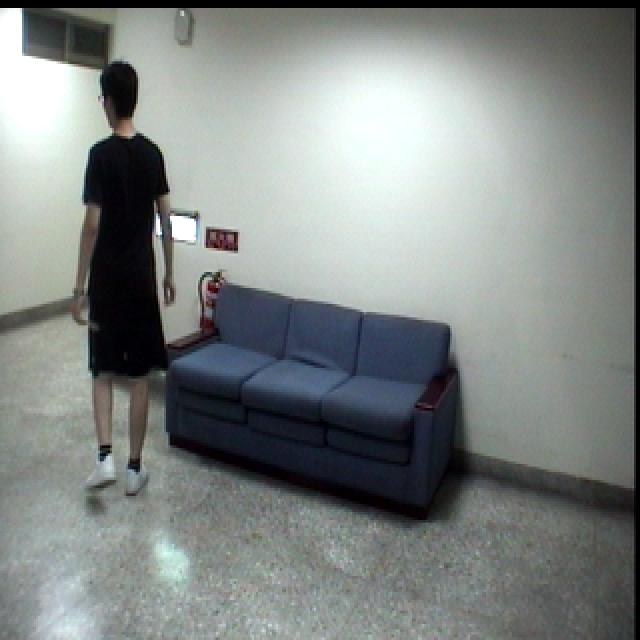stand: (71, 56, 180, 495)
